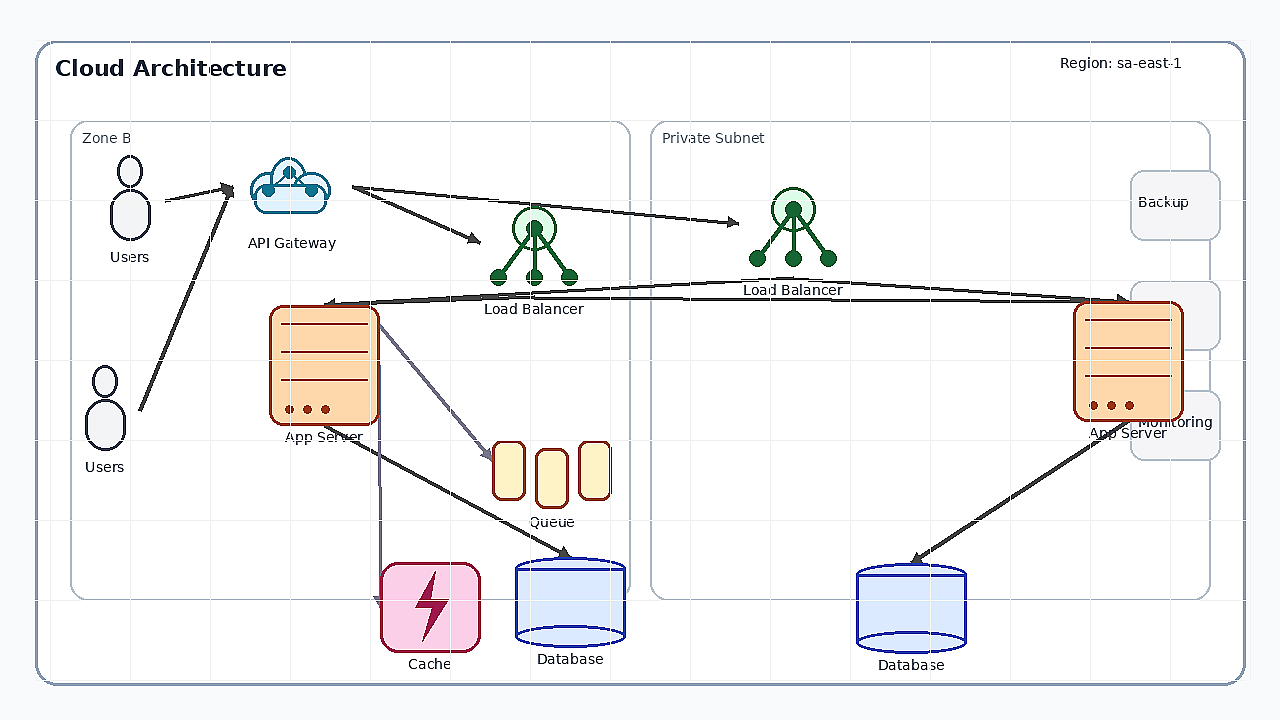API Gateway: (232, 141, 352, 231)
Application Server: (1073, 301, 1183, 421), (269, 305, 379, 425)
Cache: (380, 562, 480, 652)
Database: (856, 563, 966, 653), (515, 557, 625, 647)
Load Balancer: (479, 187, 589, 297), (738, 168, 848, 278)
Message Queue: (492, 440, 612, 510)
User: (70, 365, 140, 455), (95, 155, 165, 245)
